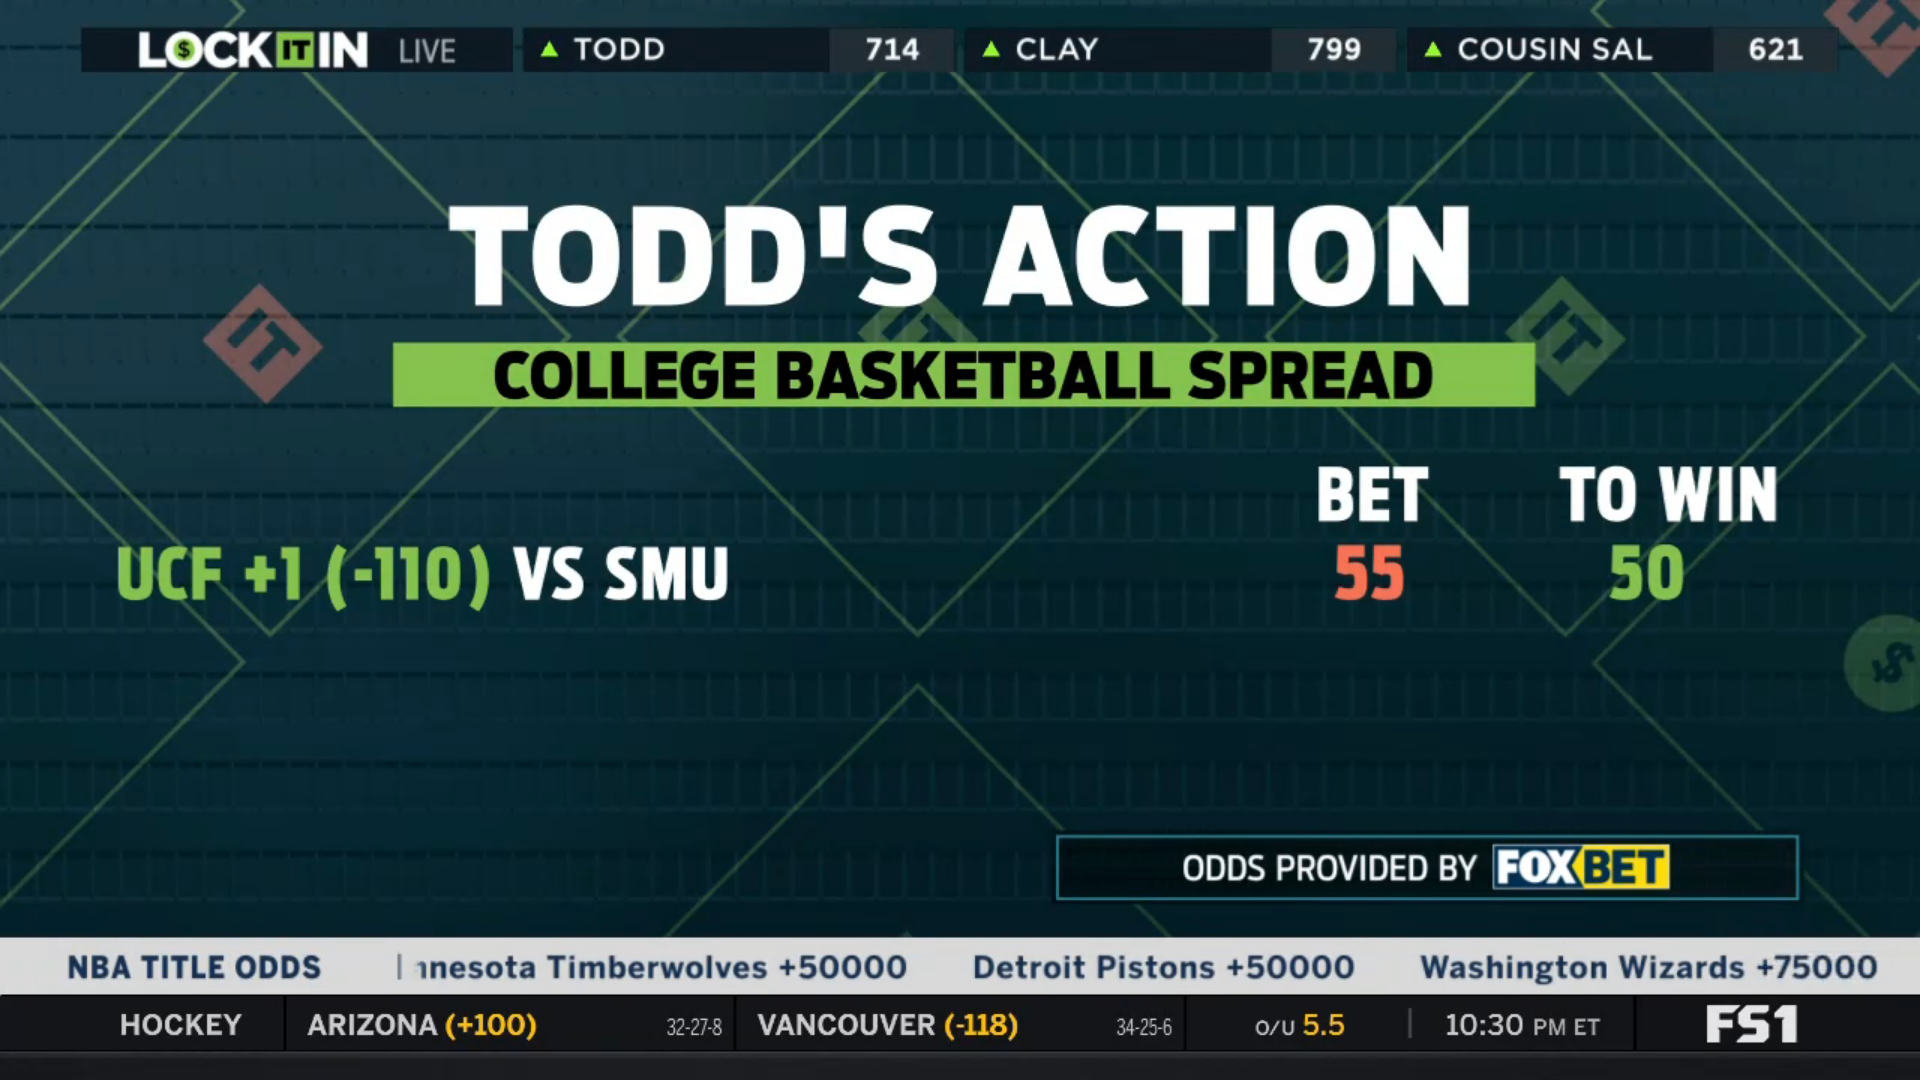Bet: (107, 527, 748, 615)
Bet Amount: (1303, 448, 1441, 613)
Subtitle: (382, 328, 1552, 423)
Title: (439, 191, 1484, 316)
To Win: (1548, 448, 1792, 608)
Top Bar: (73, 18, 1847, 79)
